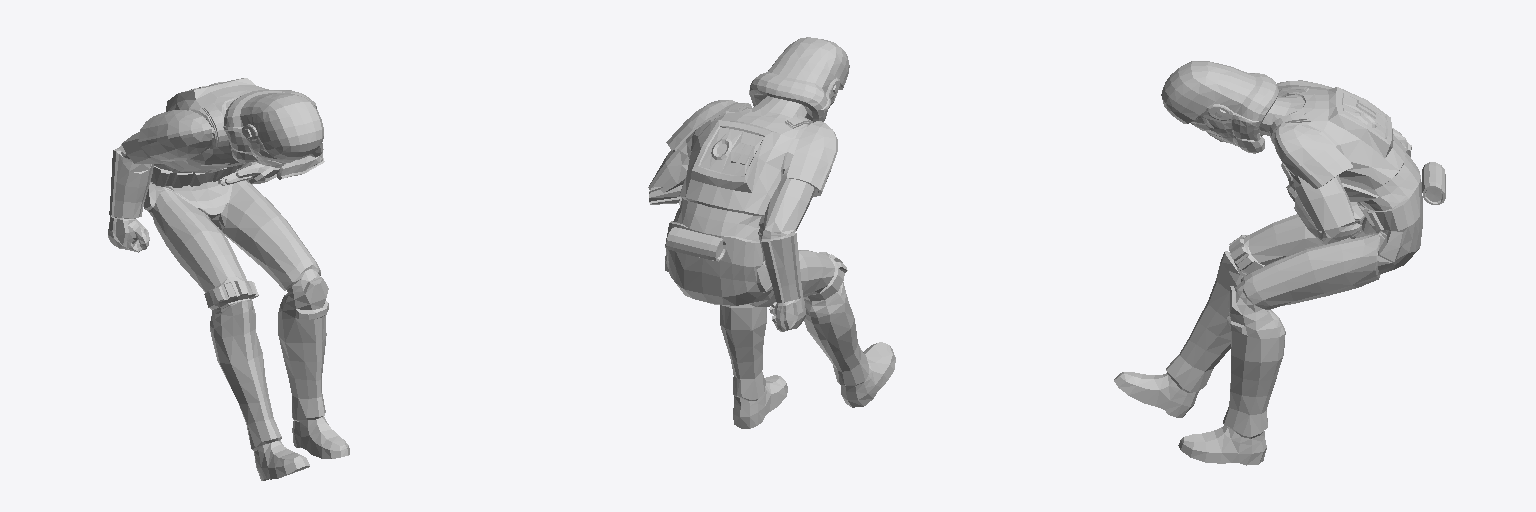
The model's file is Dead41.obj.
3 views of the same model, side by side, from view 1: azimuth 30°, elevation 25°; view 2: azimuth 150°, elevation 25°; view 3: azimuth 270°, elevation 25° (orthographic).
Visible parts, largest first — view 1: Stormtrooper.001_Stormtrooper; view 2: Stormtrooper.001_Stormtrooper; view 3: Stormtrooper.001_Stormtrooper.
Boxes of the visible parts, x1,y1,x2,y2 form: Stormtrooper.001_Stormtrooper: [108, 78, 349, 480]; Stormtrooper.001_Stormtrooper: [648, 37, 895, 428]; Stormtrooper.001_Stormtrooper: [1114, 61, 1445, 465].
Size of the model in its own units: 1.37 by 2.72 by 2.19.